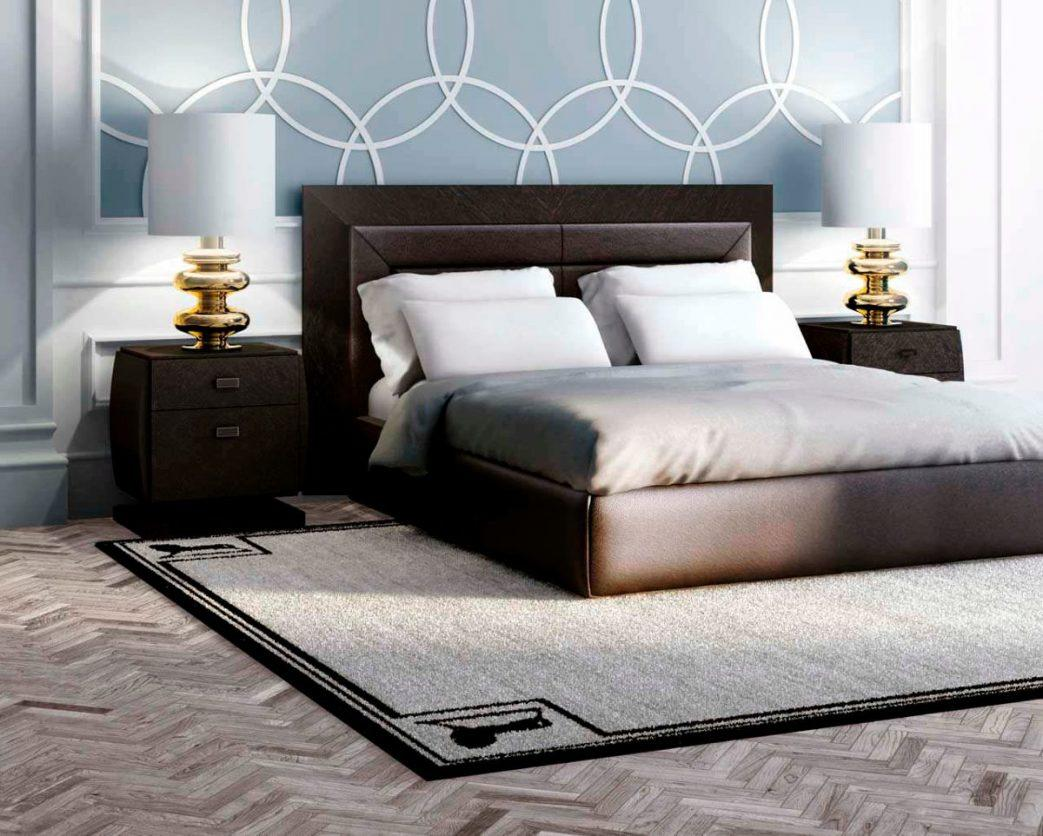bed: (280, 182, 936, 528)
